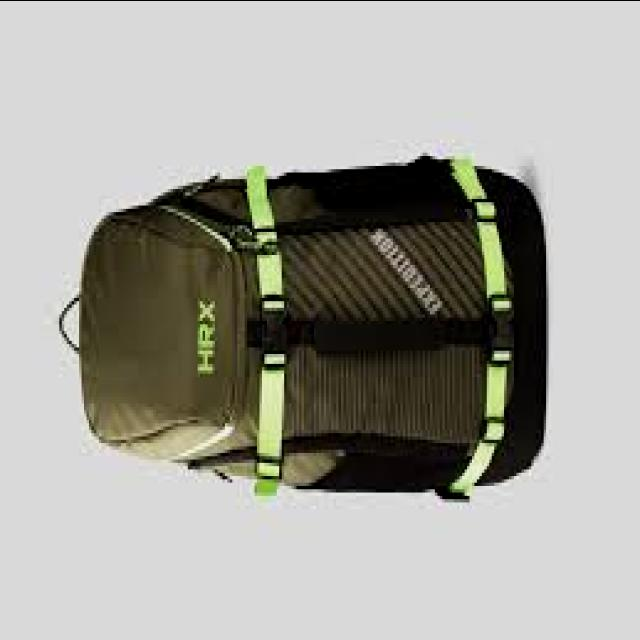backpack: (58, 156, 548, 506)
